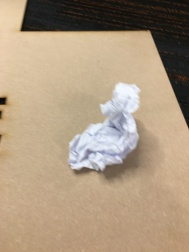paper_white: (56, 69, 151, 184)
